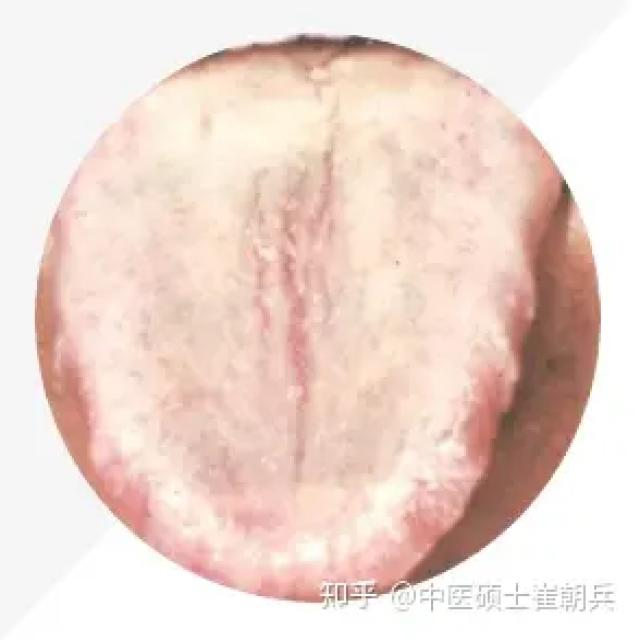tongue: (61, 72, 552, 552)
